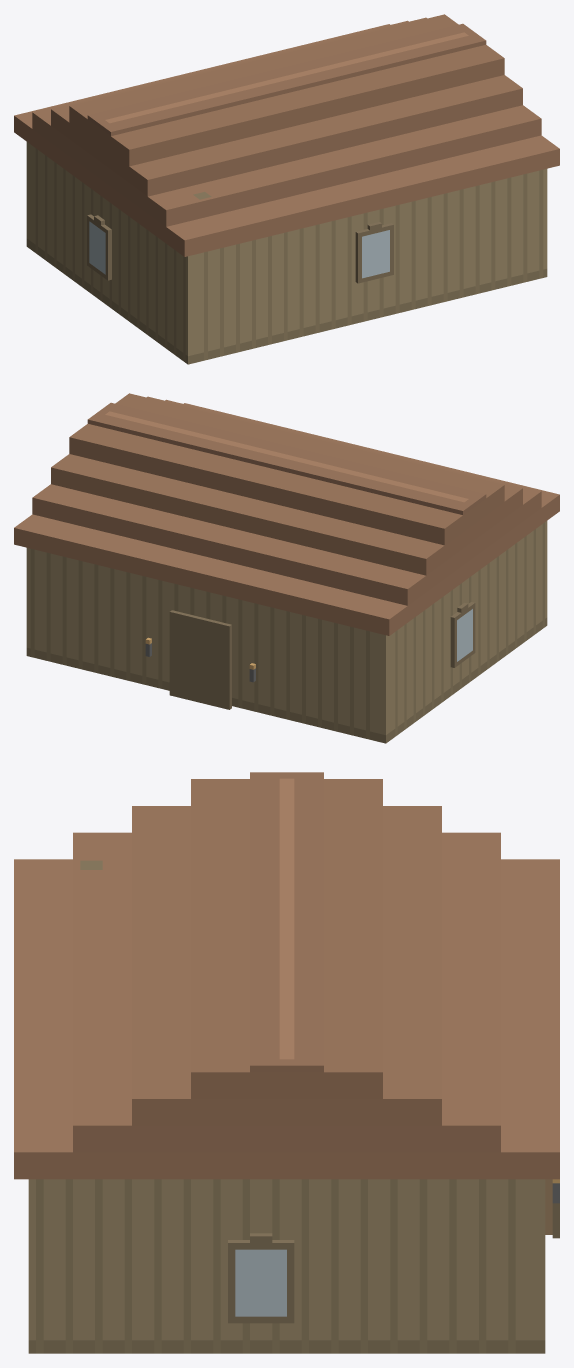
The model's file is lonja_pescado_04.glb.
3 renders of one model, top to bottom at view 1: azimuth 30°, elevation 25°; view 2: azimuth 150°, elevation 25°; view 3: azimuth 270°, elevation 25°, orthographic. The views are drawn at different scales.
Parts seen in each view (by area): view 1: lonja_pescado_04; view 2: lonja_pescado_04; view 3: lonja_pescado_04.
Part boxes in pixels (box(x1,y1,x2,y2)): lonja_pescado_04: box(14, 14, 559, 364); lonja_pescado_04: box(14, 393, 559, 743); lonja_pescado_04: box(14, 772, 559, 1353).
Bounding box in the file's own units: 9.4 × 4.4 × 7.4.
